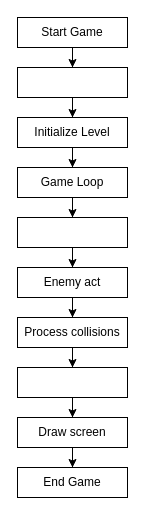
Some shapes in this 145 by 515 pixel diagram are drawn without their labels. The shapes that lost their labels are listed below. From the top down, each one's centre as x and y in pixels, then its label:
At [72,82]: "Initialize Game".
At [72,232]: "Player input".
At [72,382]: "Check player death".
